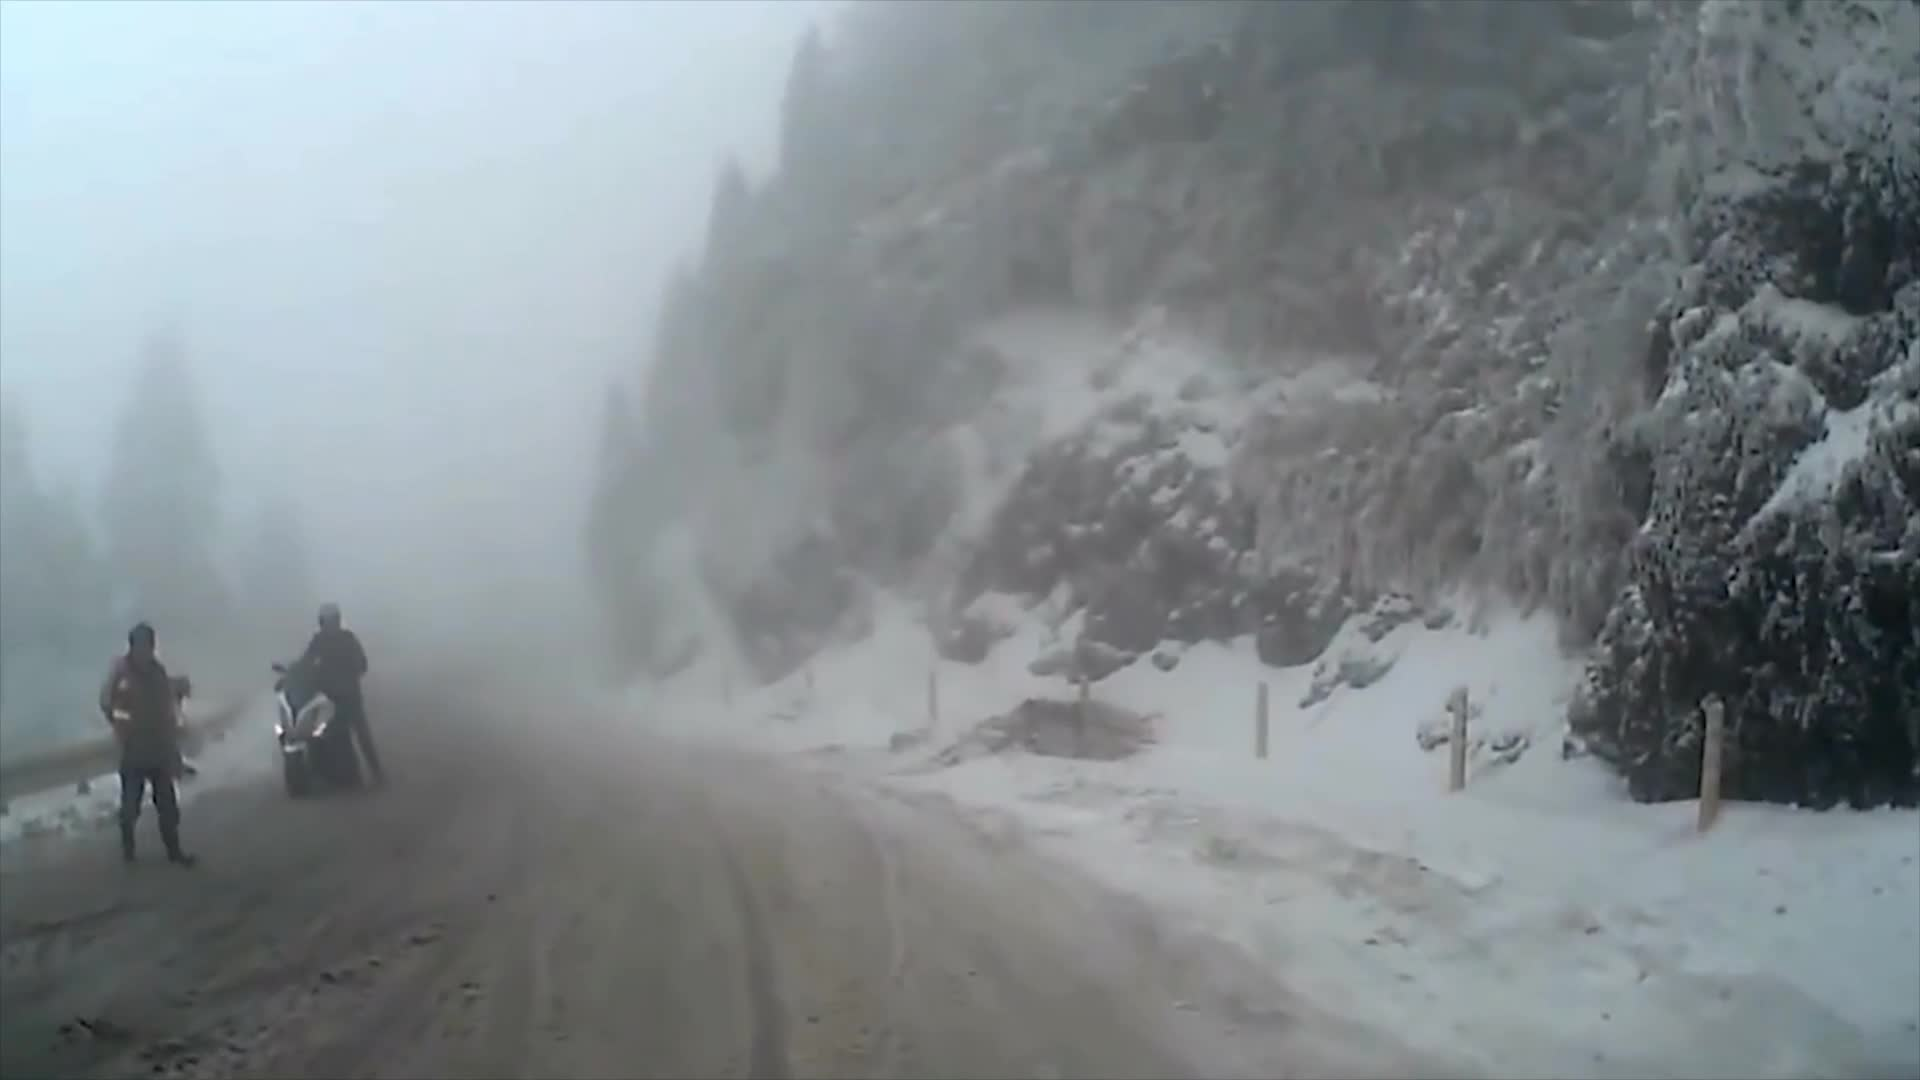pedestrian: (100, 625, 201, 870), (289, 604, 396, 806)
